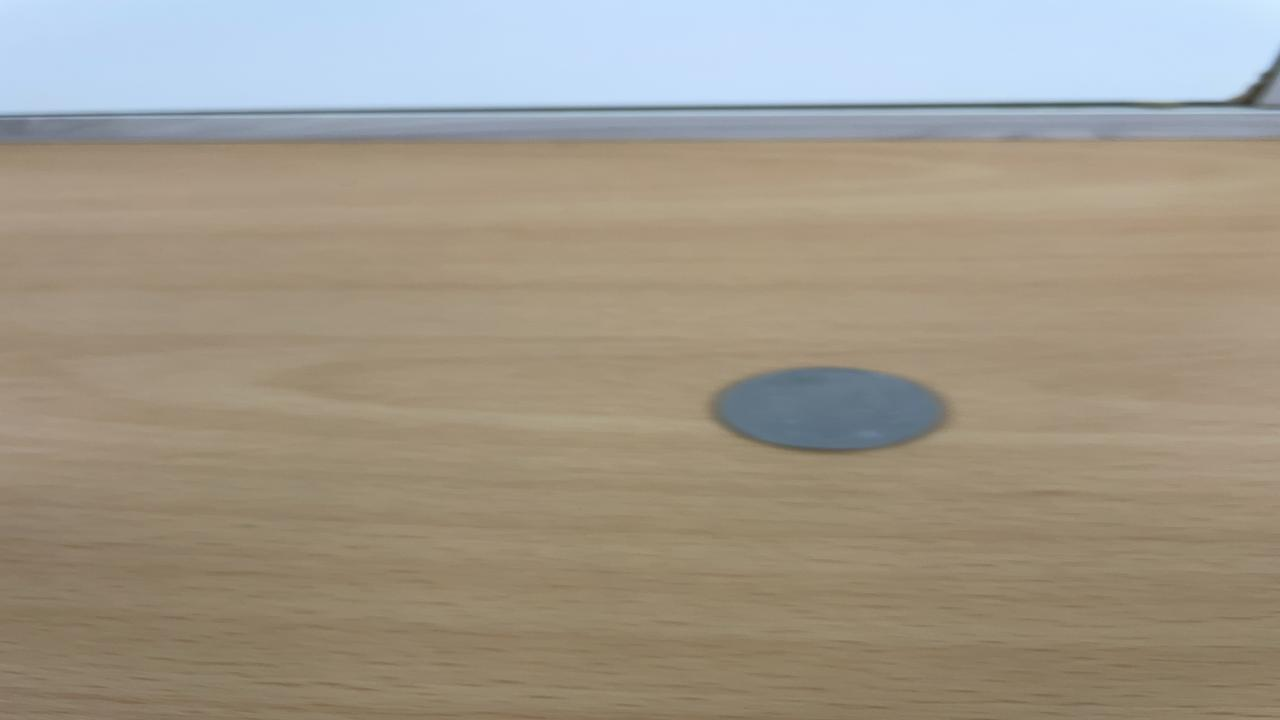coin: (708, 364, 954, 455)
